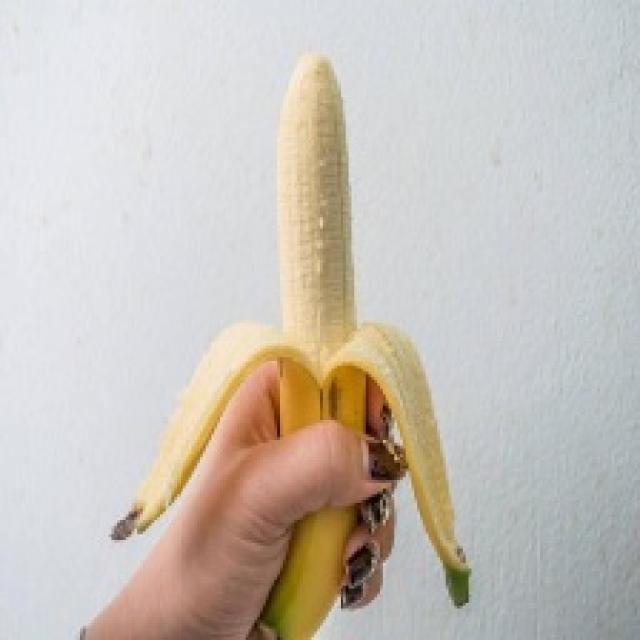Banana: (109, 49, 472, 637)
